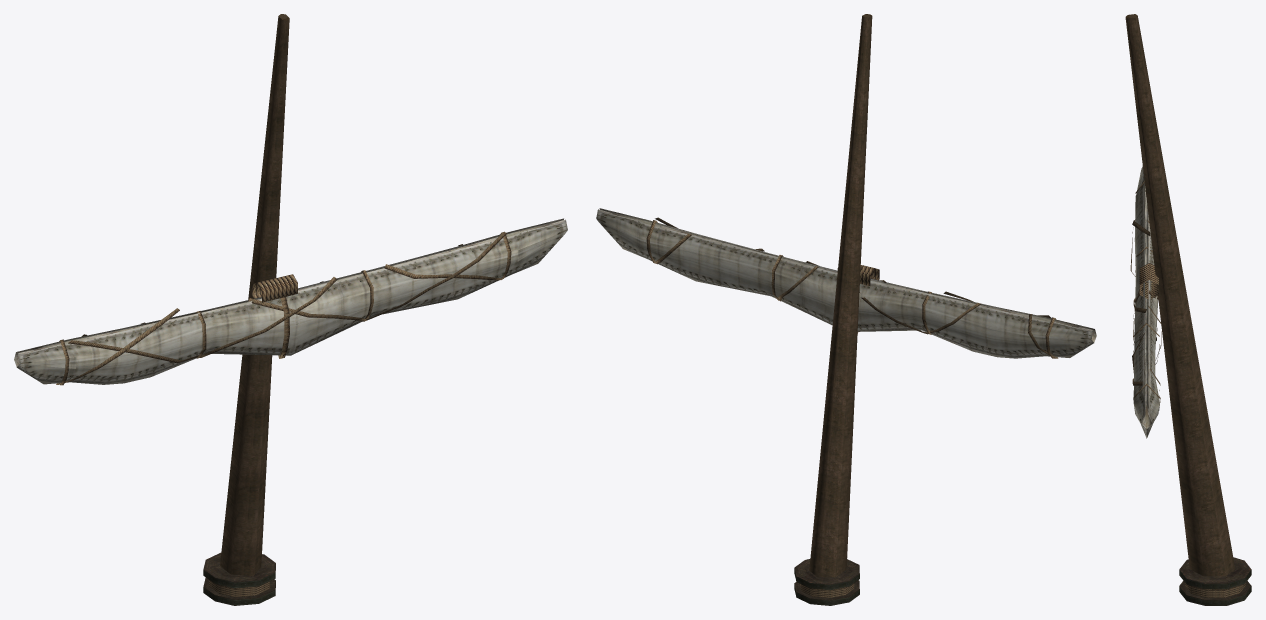
Rendered from front_dot.fbx.
3 views of the same model, side by side, from view 1: azimuth 30°, elevation 25°; view 2: azimuth 150°, elevation 25°; view 3: azimuth 270°, elevation 25° (orthographic). The views are drawn at different scales.
Parts seen in each view (by area): view 1: front_dot; view 2: front_dot; view 3: front_dot.
Part boxes in pixels (x1,y1,x2,y2): front_dot: (14, 14, 567, 605); front_dot: (596, 14, 1096, 605); front_dot: (1125, 14, 1251, 605).
Bounding box in the file's own units: 45.47 × 48.01 × 9.51.
